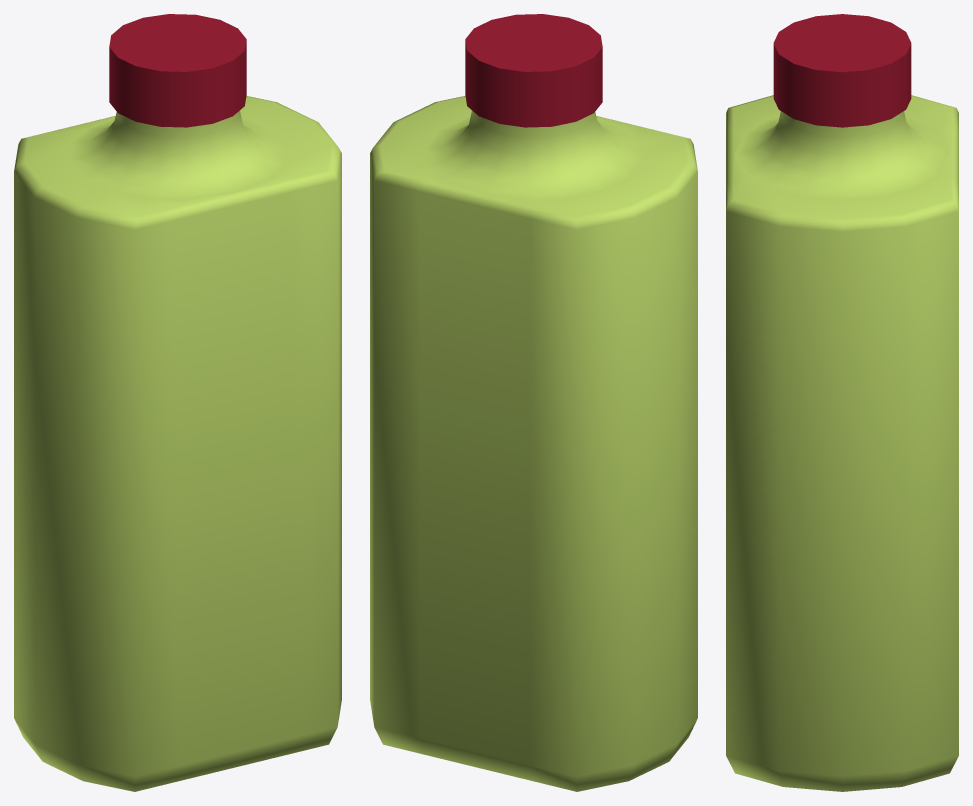
Rendered from BottleOil_00.fbx.
3 views of the same model, side by side, from view 1: azimuth 30°, elevation 25°; view 2: azimuth 150°, elevation 25°; view 3: azimuth 270°, elevation 25° (orthographic).
Visible parts, largest first — view 1: BottleOil_00; view 2: BottleOil_00; view 3: BottleOil_00.
Boxes of the visible parts, x1=… form: BottleOil_00: x1=14, y1=14, x2=341, y2=791; BottleOil_00: x1=370, y1=14, x2=697, y2=791; BottleOil_00: x1=726, y1=14, x2=958, y2=791.
Size of the model in its own units: 32 by 74.09 by 22.63.
